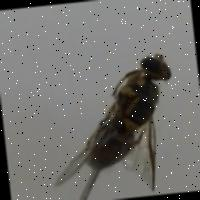Oriental-fruit-fly: (38, 40, 188, 200)
